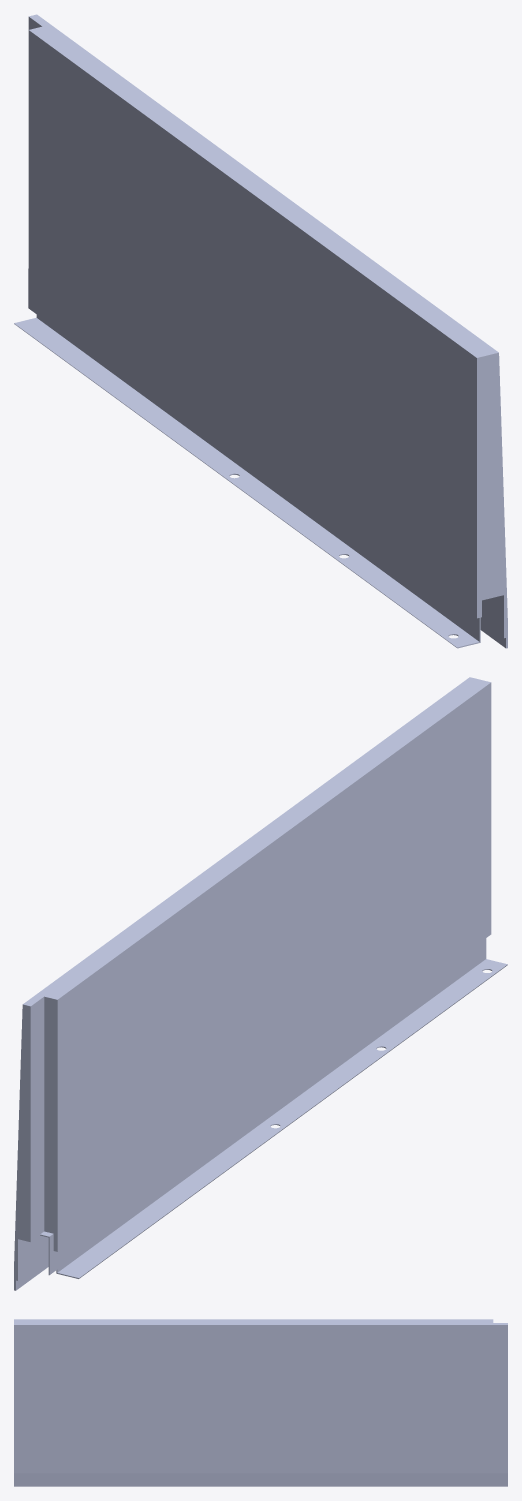
Rendered from mv-kava-E550-m.glb.
3 views of the same model, one above another, from view 1: azimuth 30°, elevation 25°; view 2: azimuth 150°, elevation 25°; view 3: azimuth 270°, elevation 25° (orthographic). The views are drawn at different scales.
Parts seen in each view (by area): view 1: 44181852; view 2: 44181852; view 3: 44181852.
Boxes of the visible parts, x1=… form: 44181852: x1=14, y1=14, x2=507, y2=648; 44181852: x1=14, y1=677, x2=507, y2=1290; 44181852: x1=14, y1=1319, x2=507, y2=1486.
Size of the model in its own units: 0.0335 by 0.192 by 0.5402.
